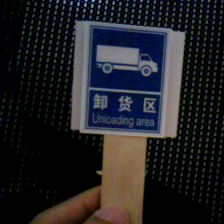unload: (77, 25, 179, 132)
